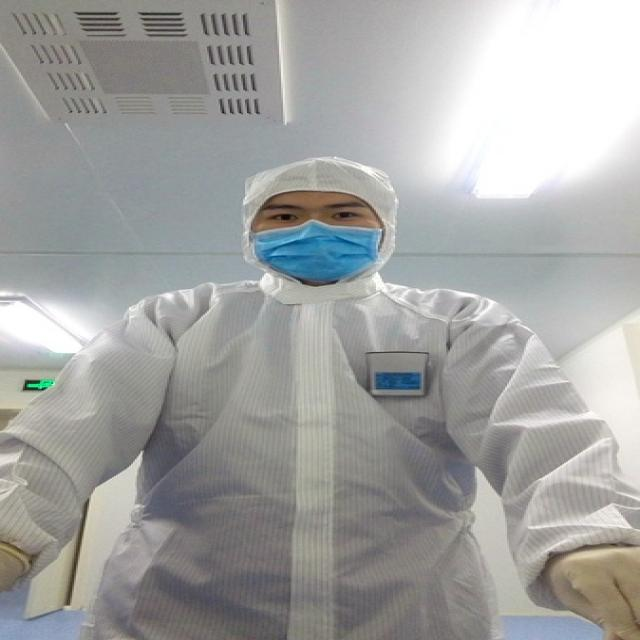mask: (247, 175, 384, 277)
